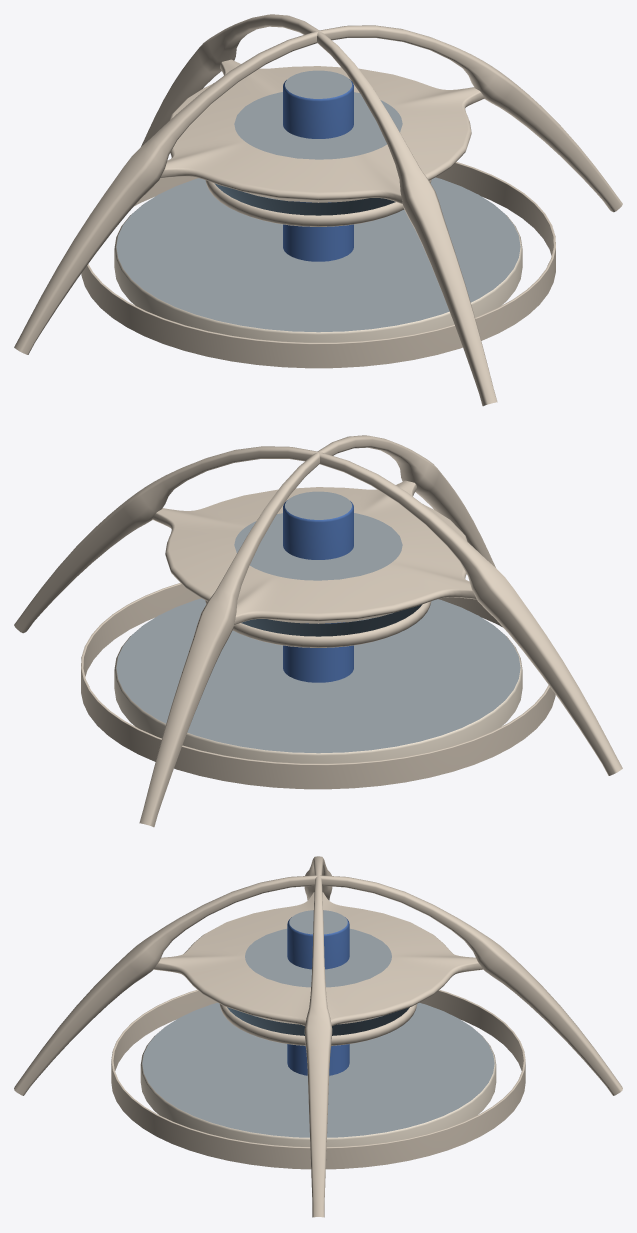
Rendered from la-theme-building.glb.
The picture shows the model from 3 angles, top to bottom: view 1: azimuth 30°, elevation 25°; view 2: azimuth 150°, elevation 25°; view 3: azimuth 270°, elevation 25°; orthographic projection. The views are drawn at different scales.
Visible parts, largest first — view 1: Theme Building; view 2: Theme Building; view 3: Theme Building.
Boxes of the visible parts, x1,y1,x2,y2 form: Theme Building: (14, 14, 622, 406); Theme Building: (14, 435, 622, 827); Theme Building: (14, 856, 622, 1217).
Size of the model in its own units: 108 by 42.74 by 108.
